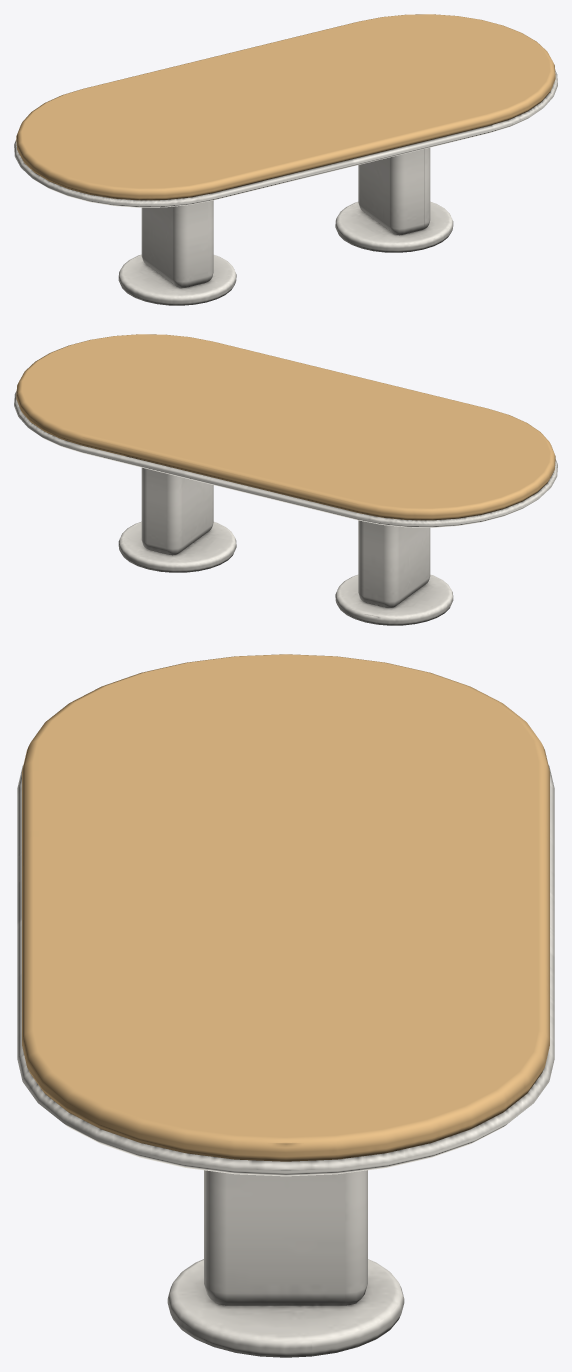
The model's file is meeting_table.glb.
3 views of the same model, one above another, from view 1: azimuth 30°, elevation 25°; view 2: azimuth 150°, elevation 25°; view 3: azimuth 270°, elevation 25° (orthographic). The views are drawn at different scales.
Visible parts, largest first — view 1: meeting_table; view 2: meeting_table; view 3: meeting_table.
Boxes of the visible parts, x1=… form: meeting_table: x1=14, y1=14, x2=557, y2=305; meeting_table: x1=14, y1=334, x2=557, y2=625; meeting_table: x1=17, y1=654, x2=554, y2=1357.
Size of the model in its own units: 2.58 by 0.75 by 1.18.
3 materials, 3 textured.
